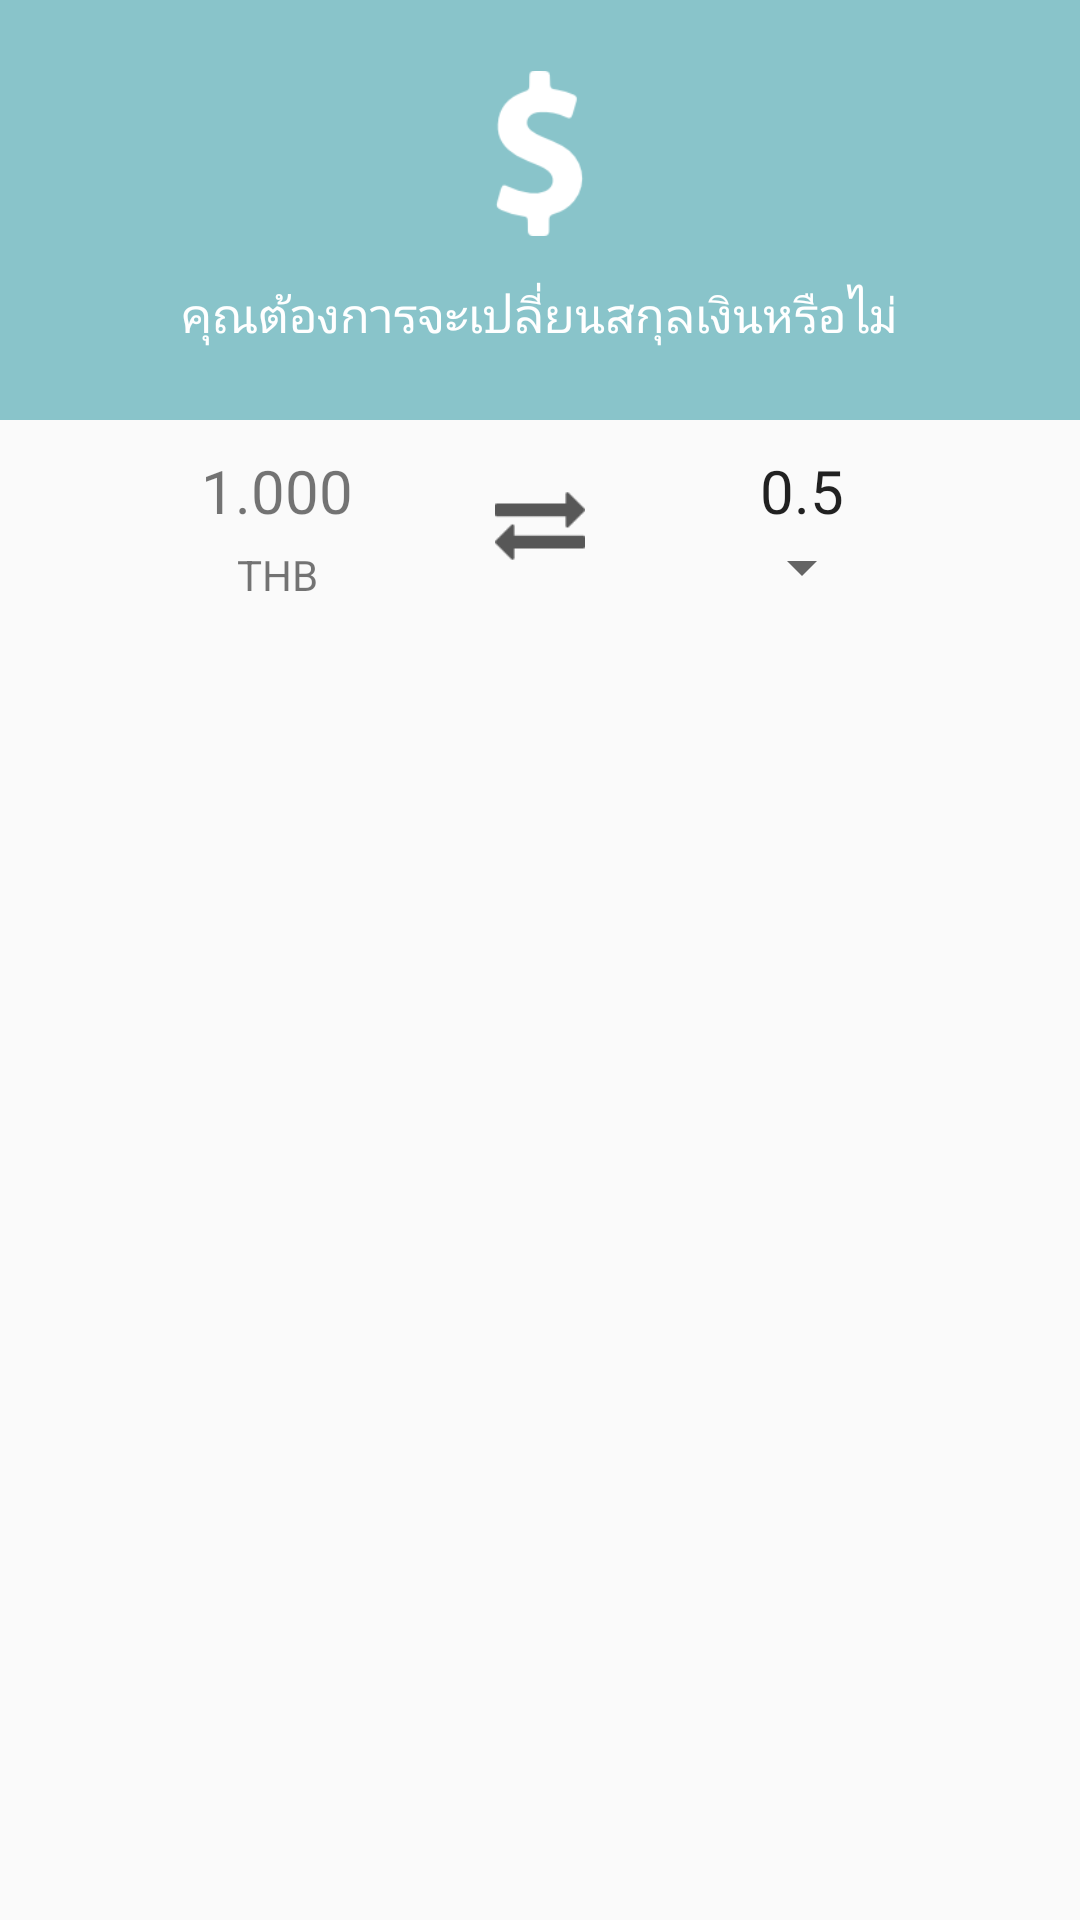

Icon click points for this 1080*1920 phone screenshot, format (x=x, y=y):
exchange: (x=540, y=526)
money: (x=539, y=153)
